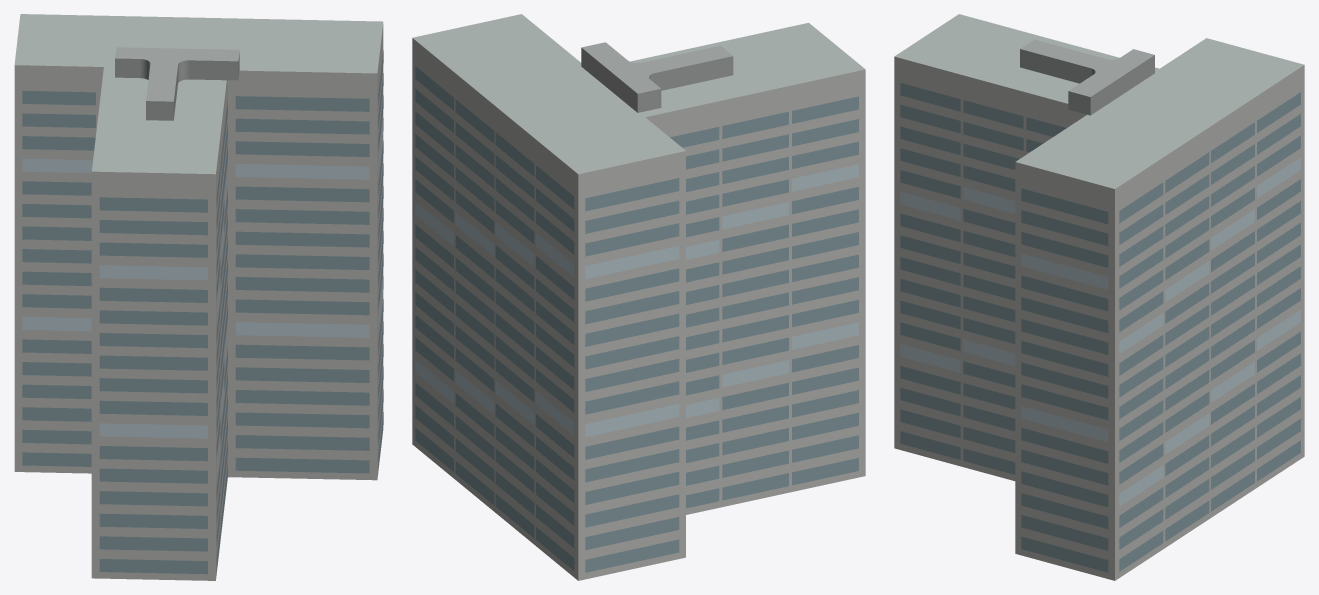
The model's file is apt-a10024752.glb.
3 renders of one model, left to right at view 1: azimuth 30°, elevation 25°; view 2: azimuth 150°, elevation 25°; view 3: azimuth 270°, elevation 25°, orthographic. The views are drawn at different scales.
Visible parts, largest first — view 1: apt-a10024752; view 2: apt-a10024752; view 3: apt-a10024752.
Boxes of the visible parts, box(x1,y1,x2,y2) form: apt-a10024752: box(14, 14, 383, 580); apt-a10024752: box(412, 14, 865, 580); apt-a10024752: box(894, 14, 1304, 580).
Bounding box in the file's own units: 45.78 × 50 × 45.33.
